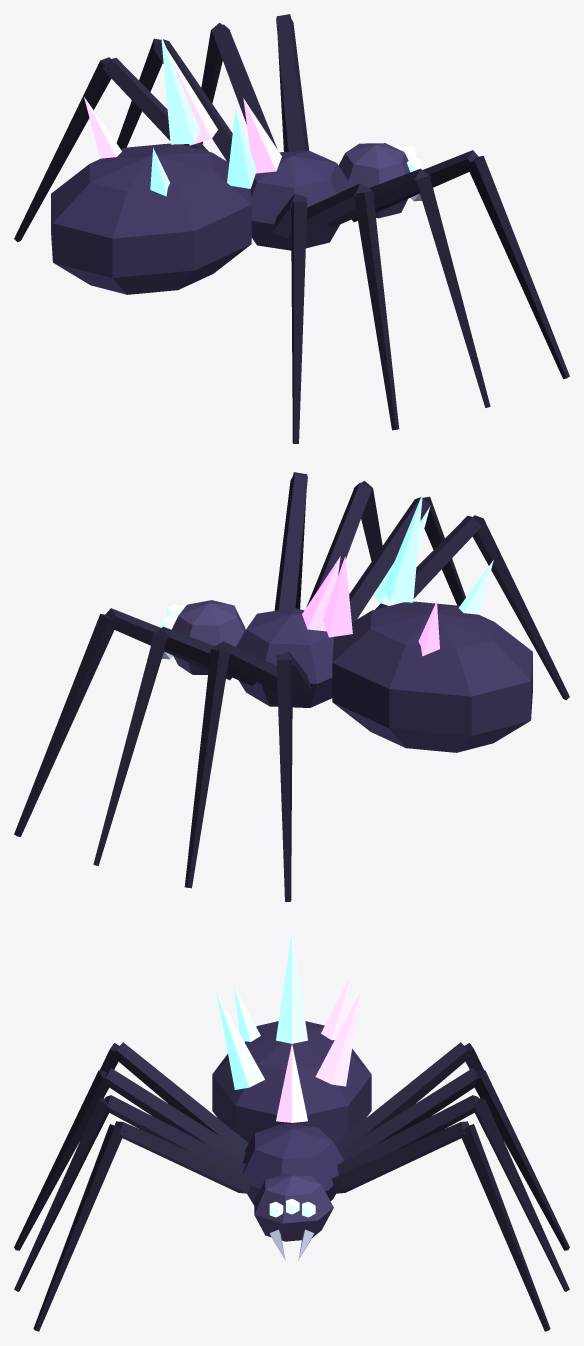
File: shard_crawler.glb
The picture shows the model from 3 angles, top to bottom: view 1: azimuth 30°, elevation 25°; view 2: azimuth 150°, elevation 25°; view 3: azimuth 270°, elevation 25°; orthographic projection. The views are drawn at different scales.
Visible parts, largest first — view 1: body, sleg_r3, sleg_r1, sleg_l4, sleg_r2, sleg_r4, head, sleg_l1, sleg_l2, sleg_l3; view 2: body, sleg_l3, sleg_l1, sleg_r4, sleg_l2, sleg_l4, sleg_r3, head, sleg_r1, sleg_r2; view 3: body, sleg_l1, sleg_r1, sleg_r3, sleg_l3, sleg_l2, sleg_r2, head, sleg_l4, sleg_r4.
Boxes of the visible parts, bbox=[...] form: body: bbox=[51, 35, 351, 294]; sleg_r3: bbox=[306, 183, 399, 430]; sleg_r1: bbox=[351, 150, 569, 378]; sleg_l4: bbox=[14, 57, 208, 241]; sleg_r2: bbox=[327, 168, 490, 407]; sleg_r4: bbox=[272, 193, 307, 443]; head: bbox=[338, 143, 421, 218]; sleg_l1: bbox=[276, 14, 309, 151]; sleg_l2: bbox=[200, 23, 277, 149]; sleg_l3: bbox=[116, 38, 232, 162]; body: bbox=[236, 493, 532, 752]; sleg_l3: bbox=[184, 641, 277, 888]; sleg_l1: bbox=[14, 608, 232, 836]; sleg_r4: bbox=[375, 515, 569, 699]; sleg_l2: bbox=[93, 626, 256, 865]; sleg_l4: bbox=[276, 651, 311, 901]; sleg_r3: bbox=[349, 496, 465, 622]; head: bbox=[161, 600, 245, 674]; sleg_r1: bbox=[274, 472, 307, 610]; sleg_r2: bbox=[306, 481, 382, 607]; body: bbox=[212, 931, 371, 1205]; sleg_l1: bbox=[331, 1121, 550, 1331]; sleg_r1: bbox=[33, 1121, 252, 1331]; sleg_r3: bbox=[14, 1068, 245, 1250]; sleg_l3: bbox=[339, 1068, 569, 1250]; sleg_l2: bbox=[337, 1095, 569, 1291]; sleg_r2: bbox=[14, 1095, 245, 1291]; head: bbox=[254, 1173, 333, 1260]; sleg_l4: bbox=[334, 1042, 484, 1151]; sleg_r4: bbox=[99, 1042, 248, 1150].
Size of the model in its own units: 1.24 by 0.9643 by 1.72.
